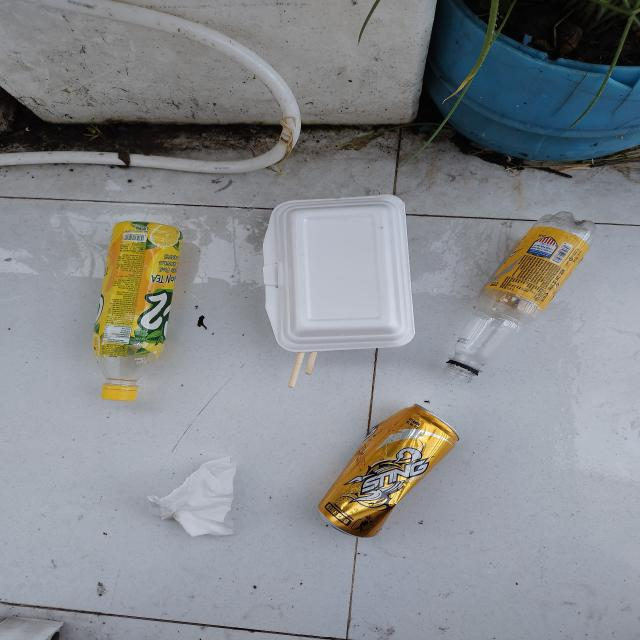bottle: (442, 210, 596, 382), (92, 221, 184, 402)
can: (318, 403, 460, 538)
foam box: (262, 194, 416, 352)
napkin: (147, 456, 237, 538)
